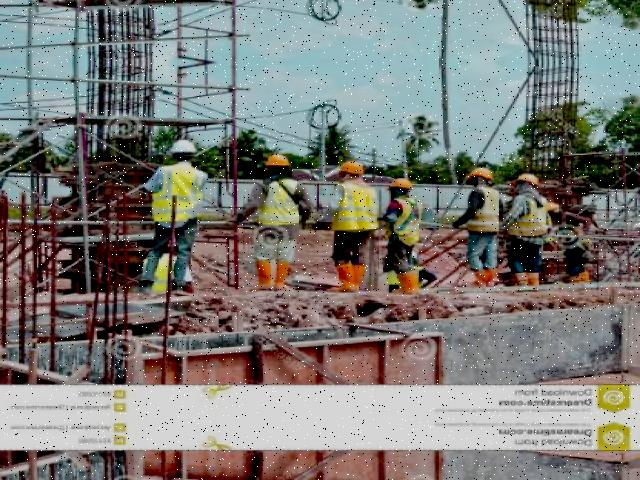Helmet: (332, 157, 374, 179), (165, 137, 205, 160), (468, 162, 502, 188), (263, 150, 298, 171), (514, 168, 547, 190), (382, 175, 420, 194)
